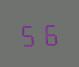five: (19, 20, 38, 47)
six: (39, 20, 58, 46)
